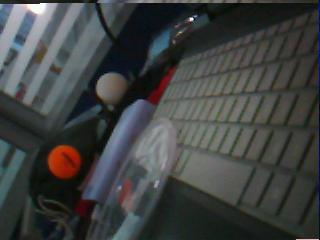oball: (47, 145, 81, 176)
